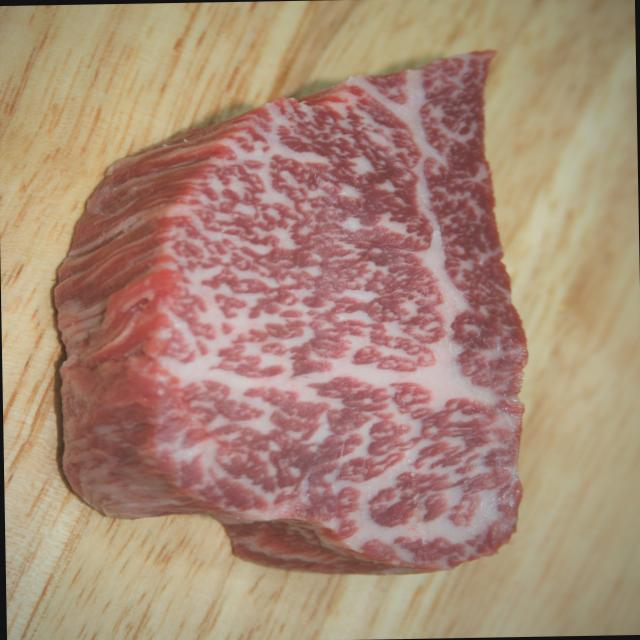beef: (118, 68, 504, 526)
